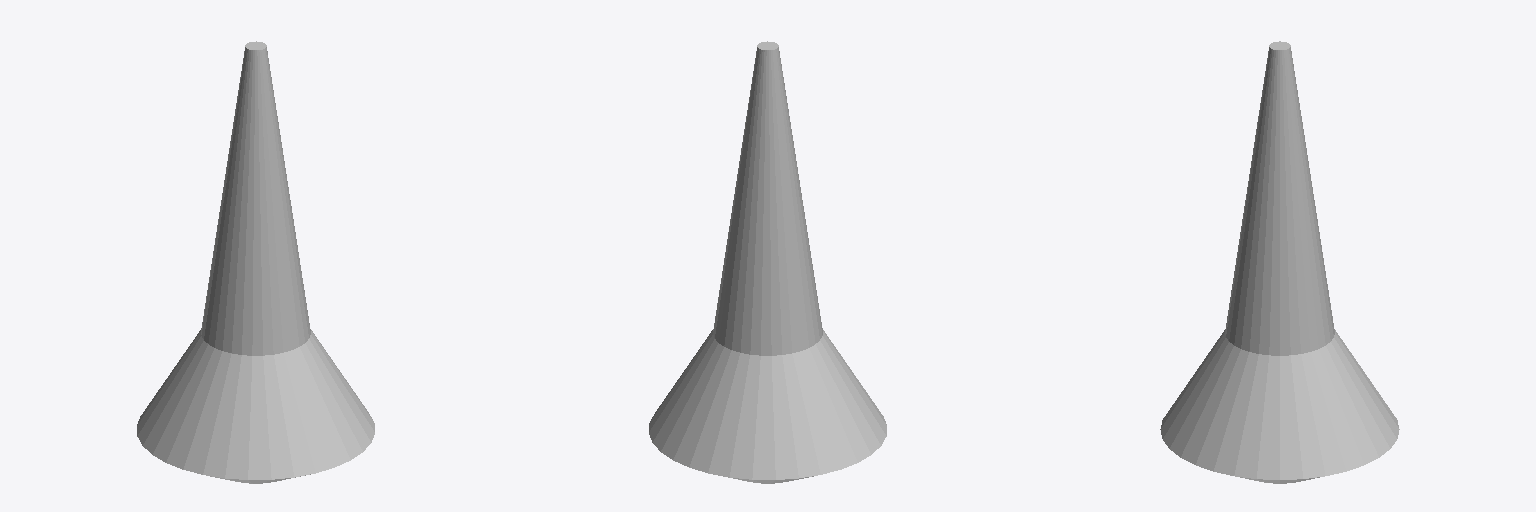
The model's file is bullet.obj.
3 renders of one model, left to right at view 1: azimuth 30°, elevation 25°; view 2: azimuth 150°, elevation 25°; view 3: azimuth 270°, elevation 25°, orthographic.
Parts seen in each view (by area): view 1: Cylinder; view 2: Cylinder; view 3: Cylinder.
Part boxes in pixels (bbox=[...]): Cylinder: bbox=[137, 41, 374, 483]; Cylinder: bbox=[649, 41, 886, 483]; Cylinder: bbox=[1160, 41, 1399, 483].
Size of the model in its own units: 2 by 3.87 by 2.